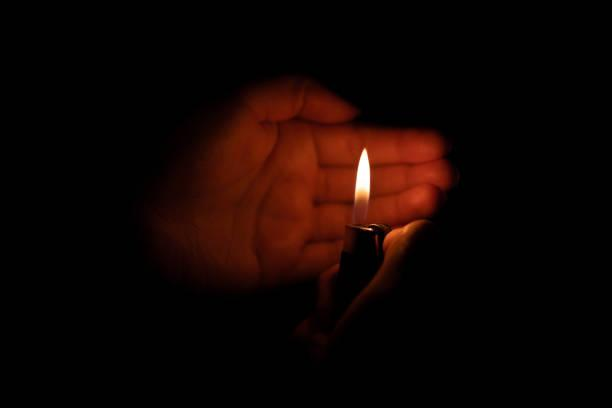Fire: (351, 144, 374, 225)
